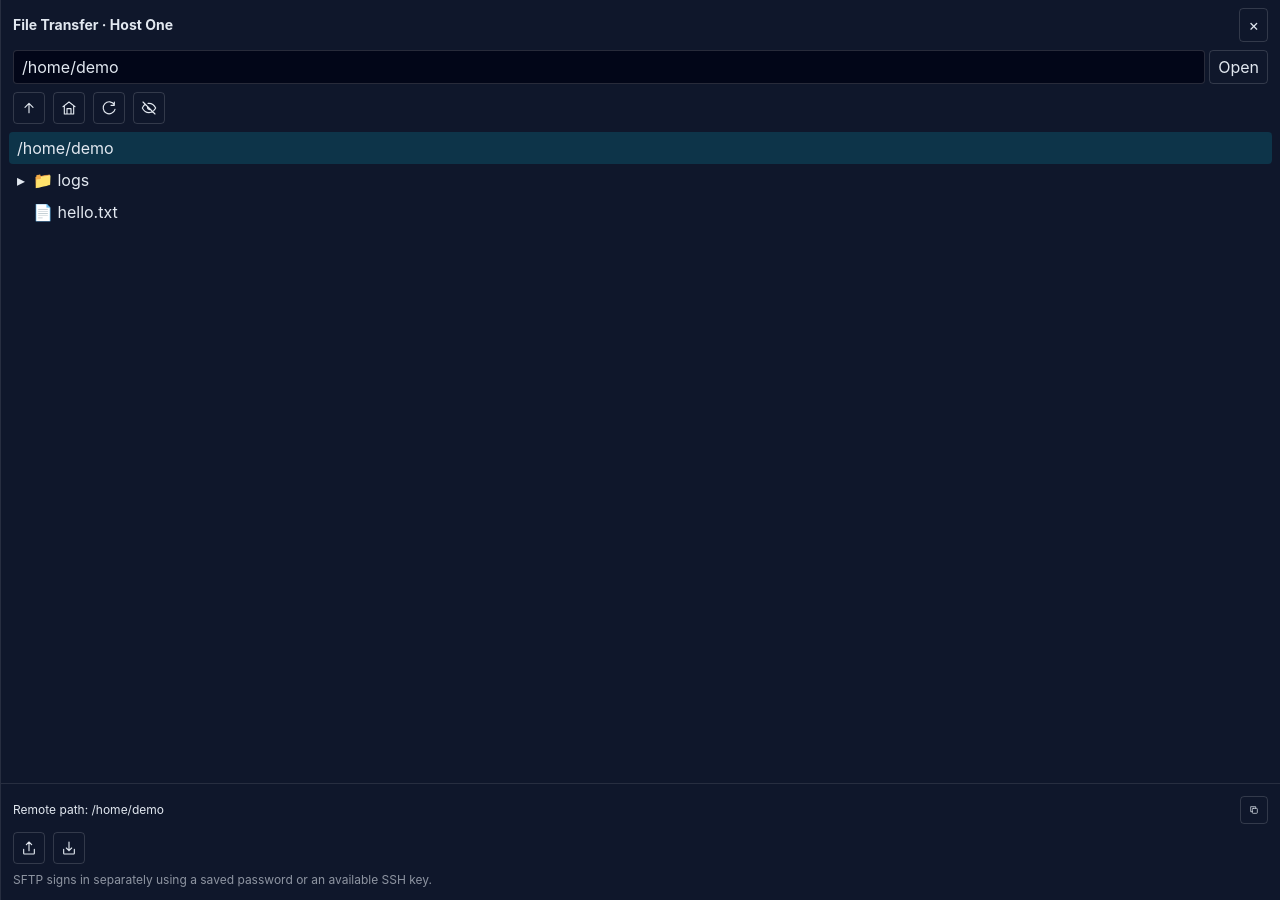
RemoteFilePanel › retains the last valid directory, tree and selection when Open fails
Double-click the button "📁 logs" at (73, 180), box [33,164,1272,196]
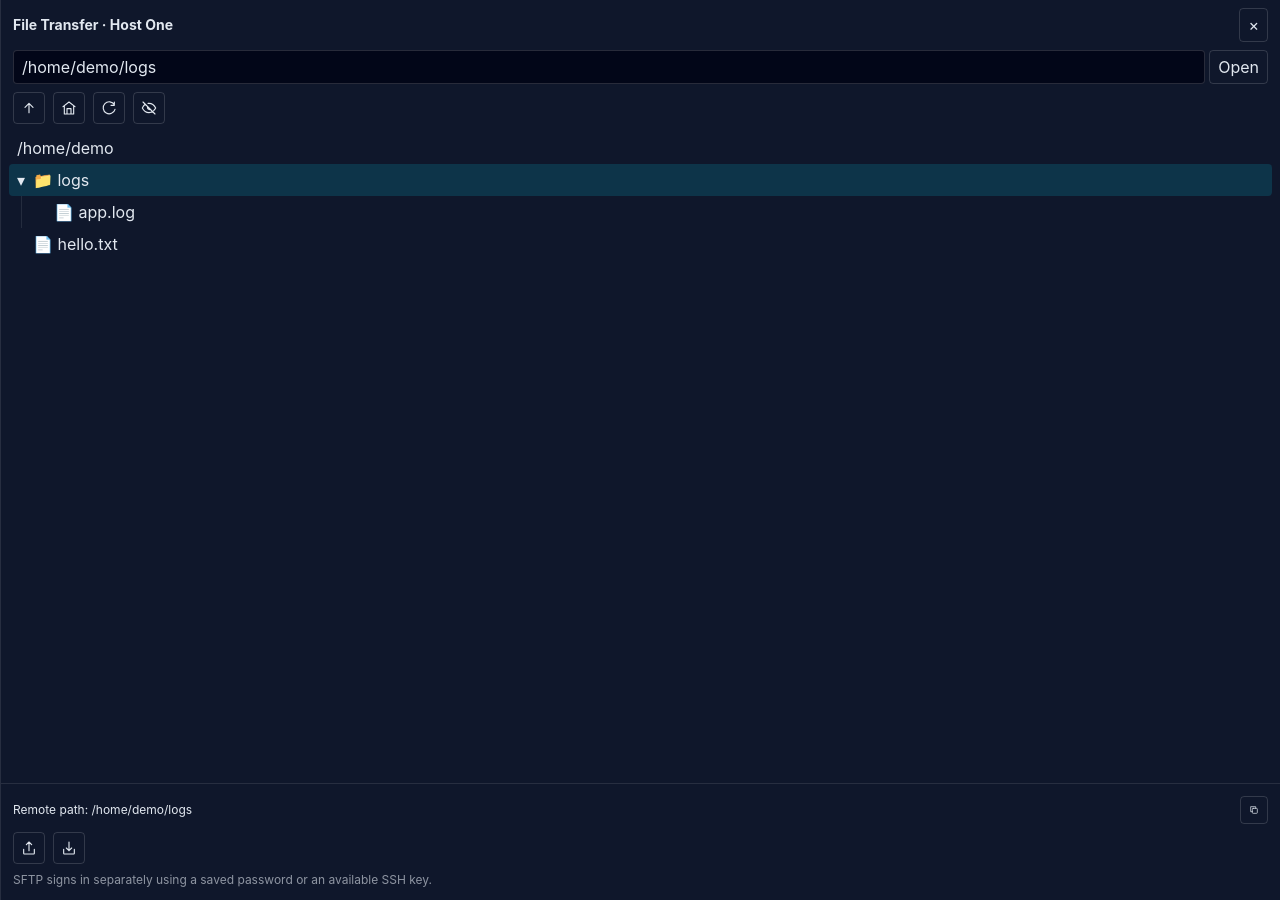
Click the button "📄 app.log" at (107, 212), box [54,196,1272,228]
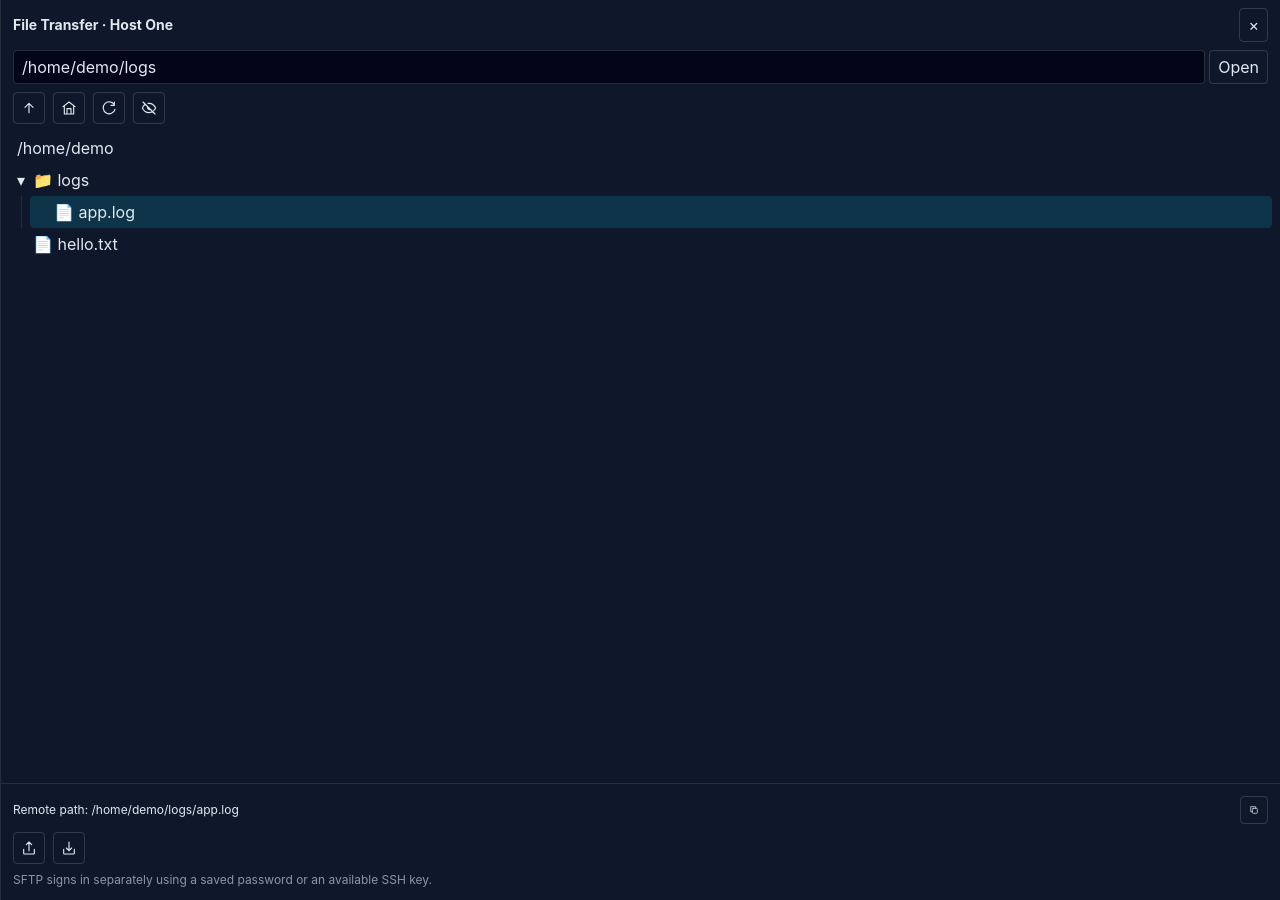
Replace the text in the field named "Remote path" with "/private" at (609, 67), box [13,50,1205,84]
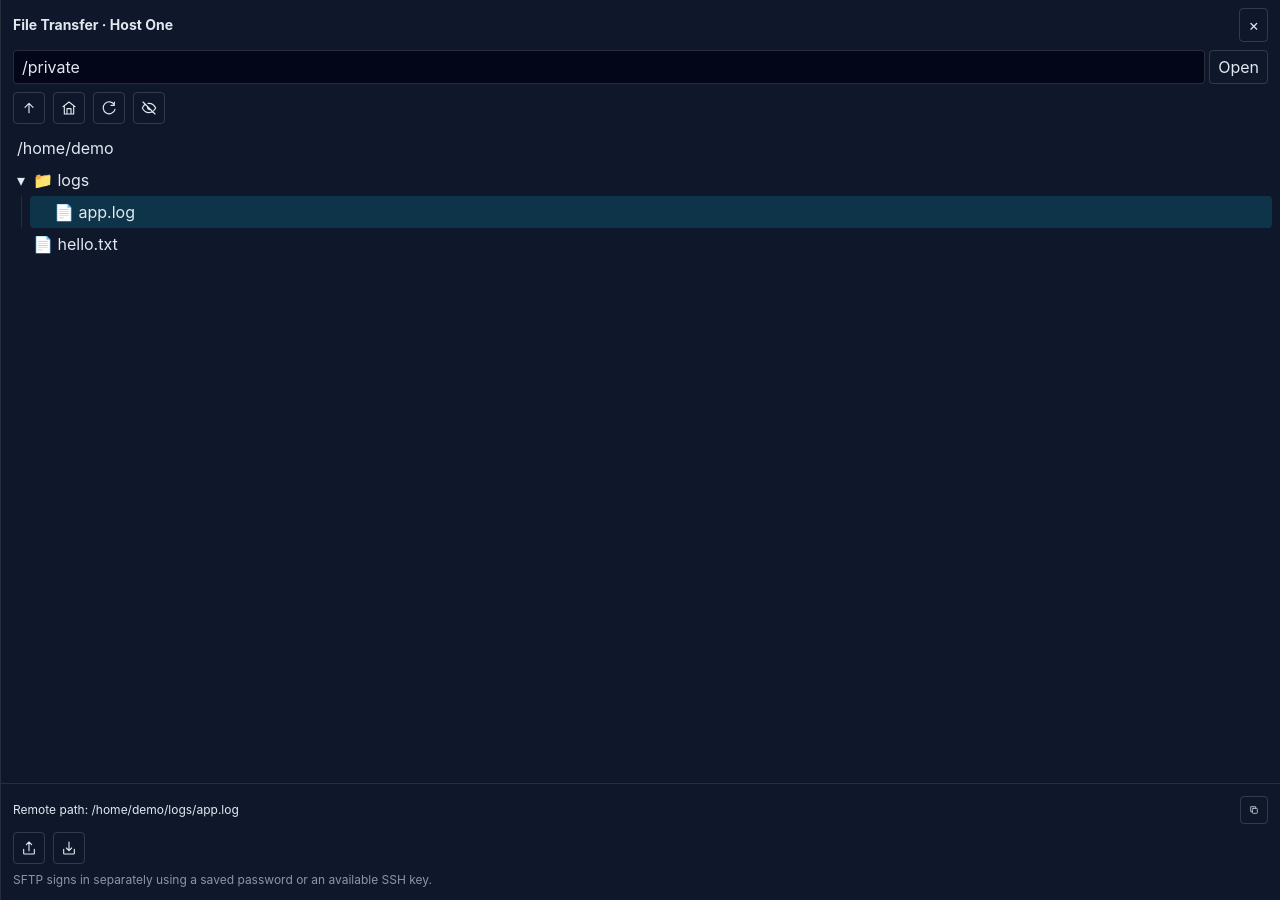
Click the button "Open" at (1239, 67), box [1209,50,1268,84]
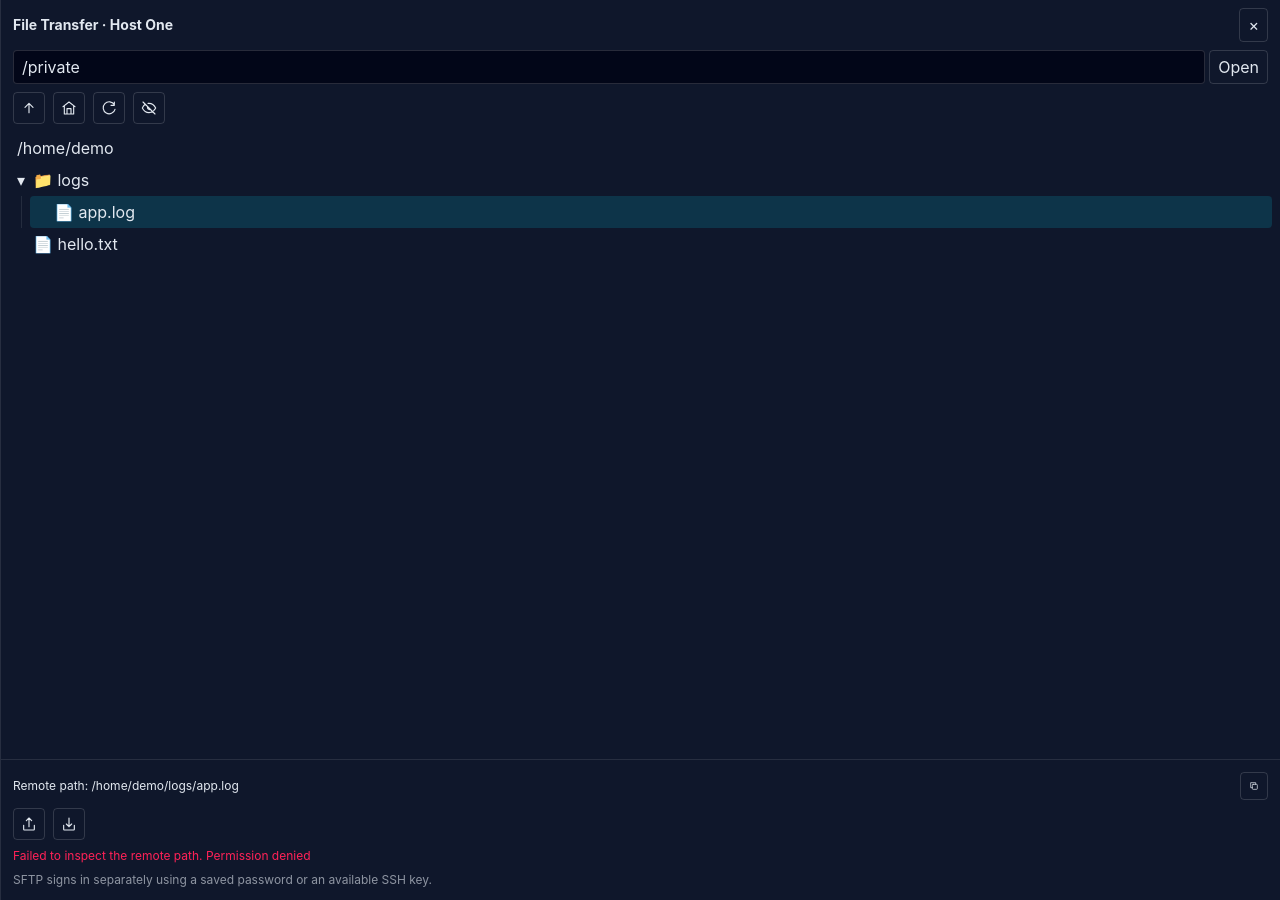
expect the message shows "Permission denied": met, box [13,848,311,863]
Click the button named "Refresh" at (109, 108), box [93,92,125,124]
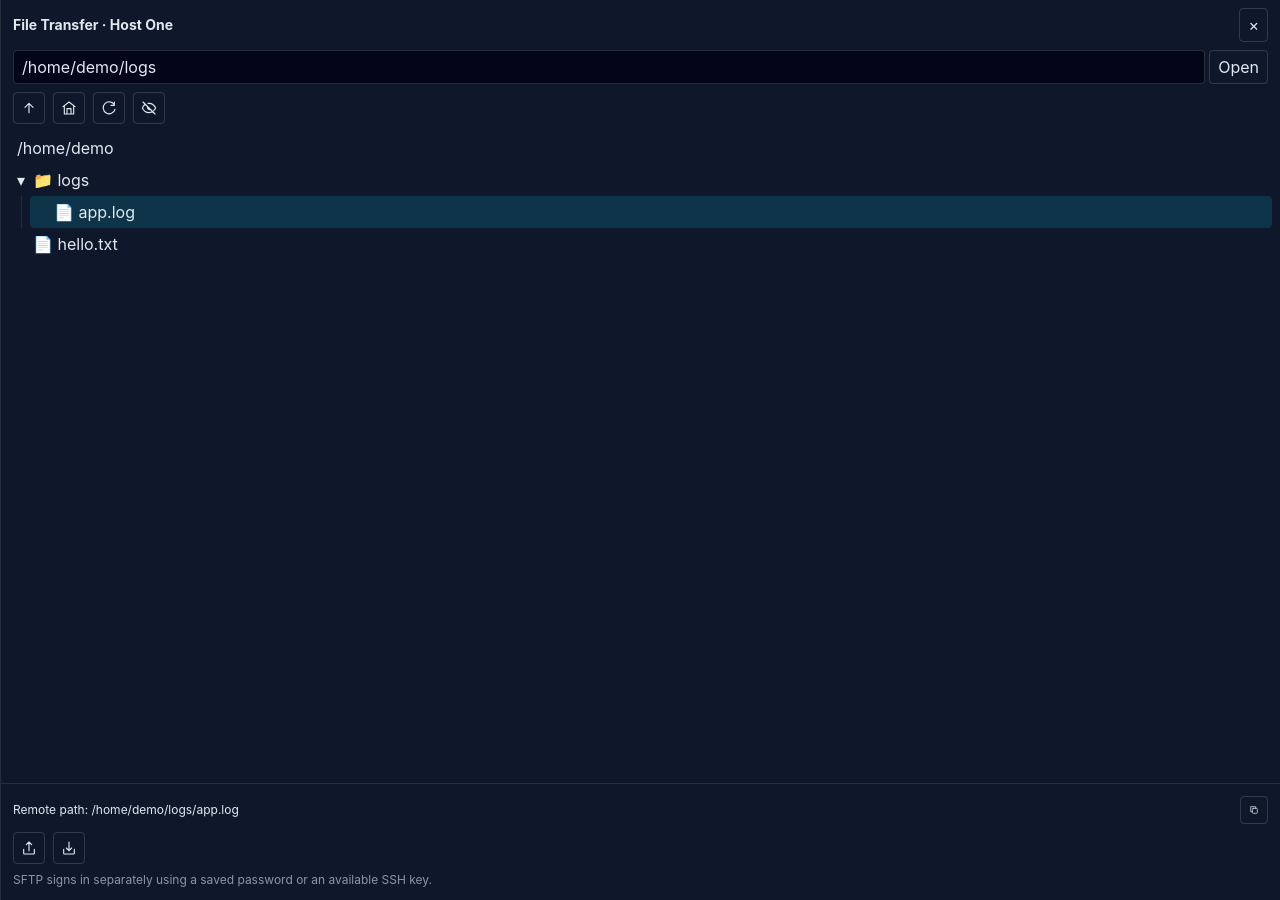
expect the field named "Remote path" holds "/home/demo/logs": met, box [13,50,1205,84]
